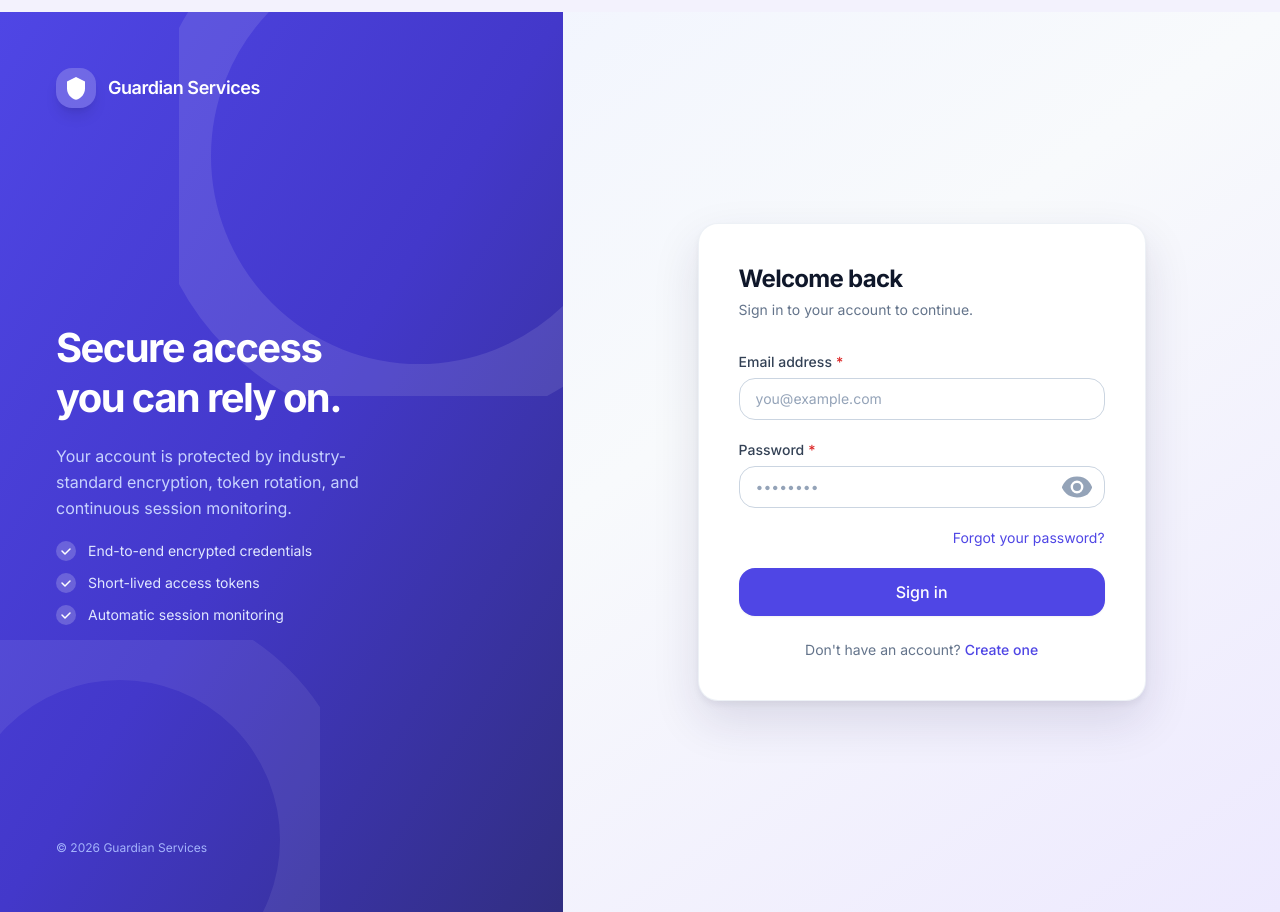
LoginPage › shows server error message on 401
In the field labelled "Email address*": [922, 399] box [739,378,1105,420], type "bad@example.com"
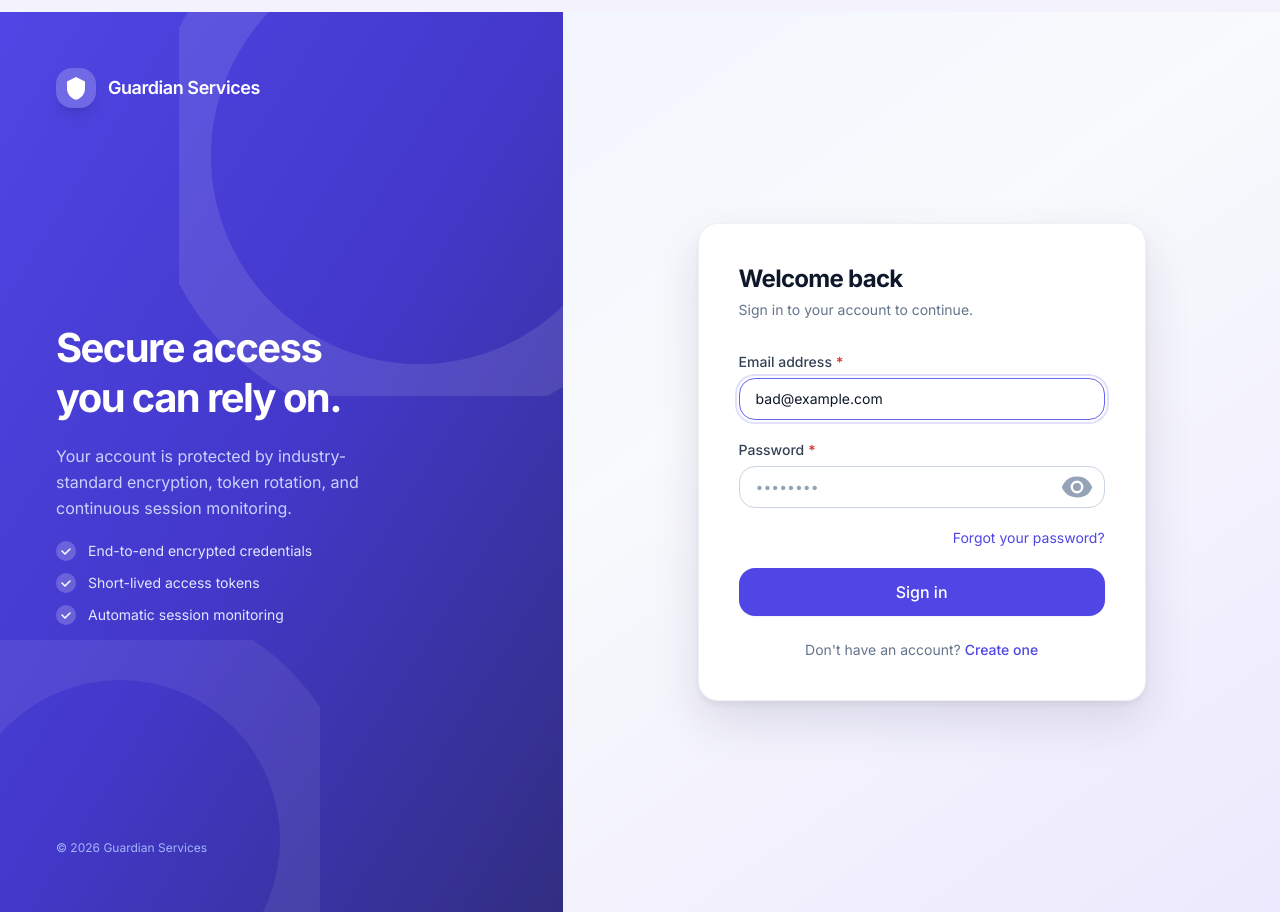
In the password field labelled "Password*": [922, 487] box [739,466,1105,508], type "wrongpassword"
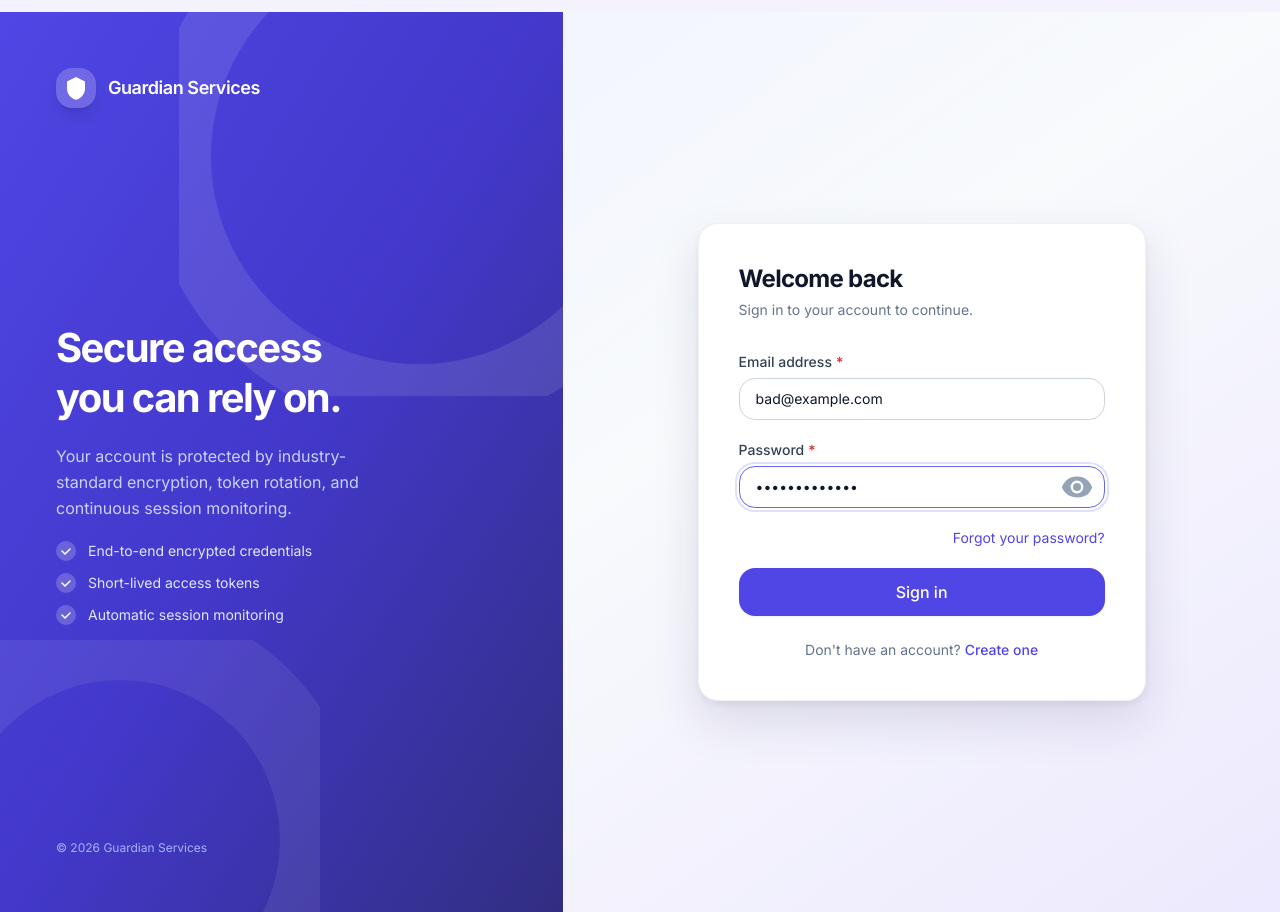
Click the button "Sign in": [922, 592] box [739,568,1105,616]
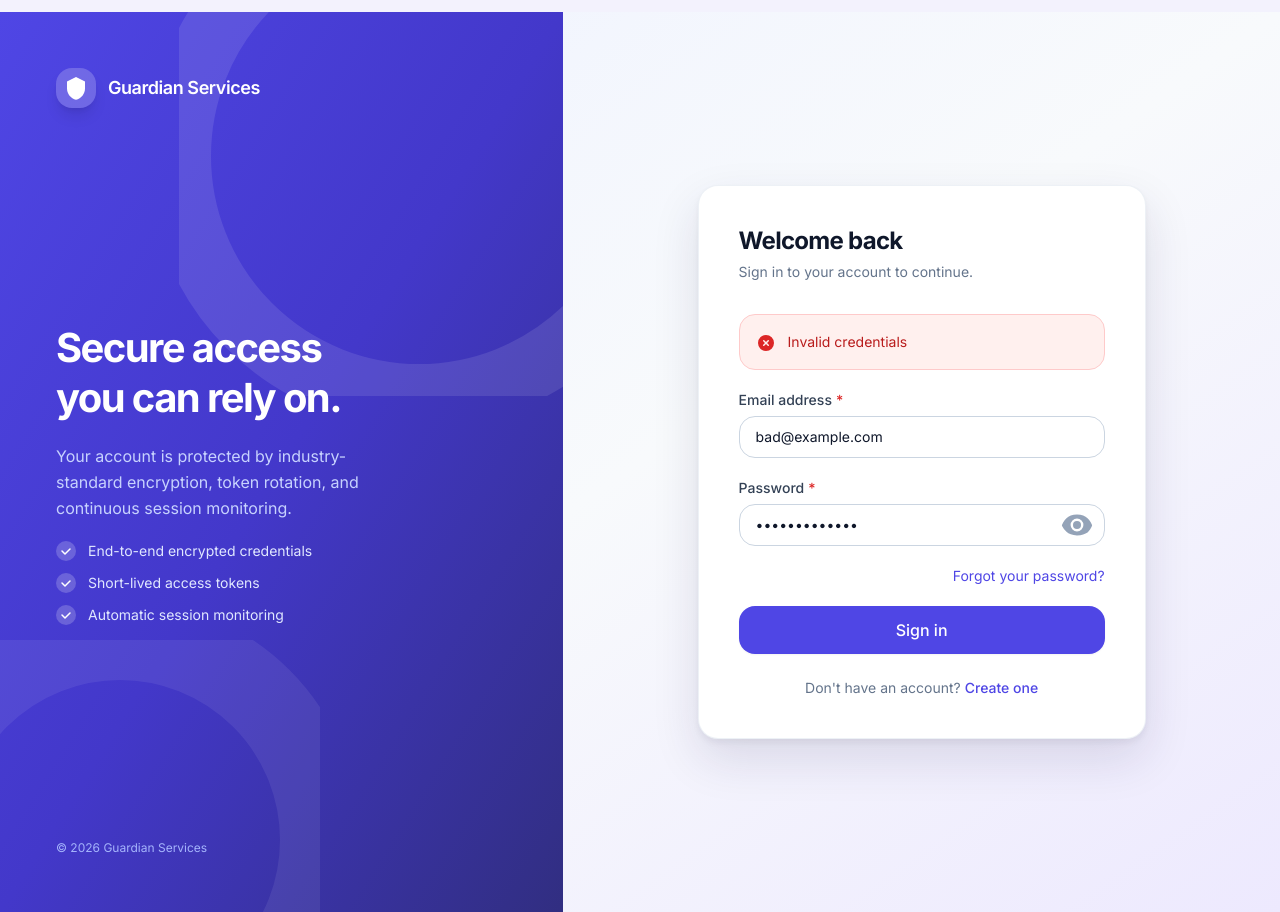
Now the message reads "Invalid credentials", box [788,333,907,350]
